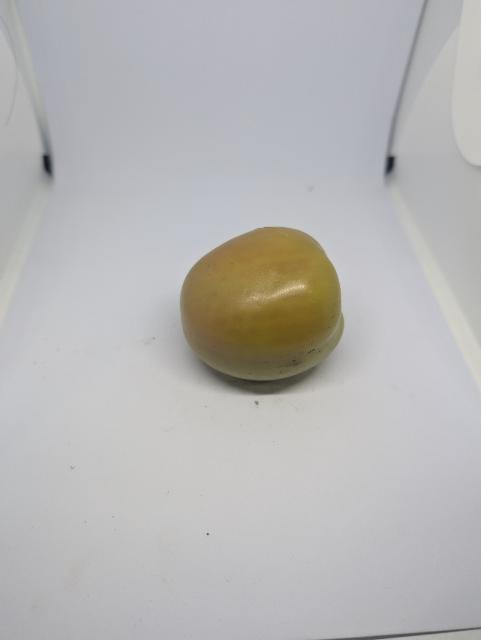breaker: (181, 227, 344, 380)
